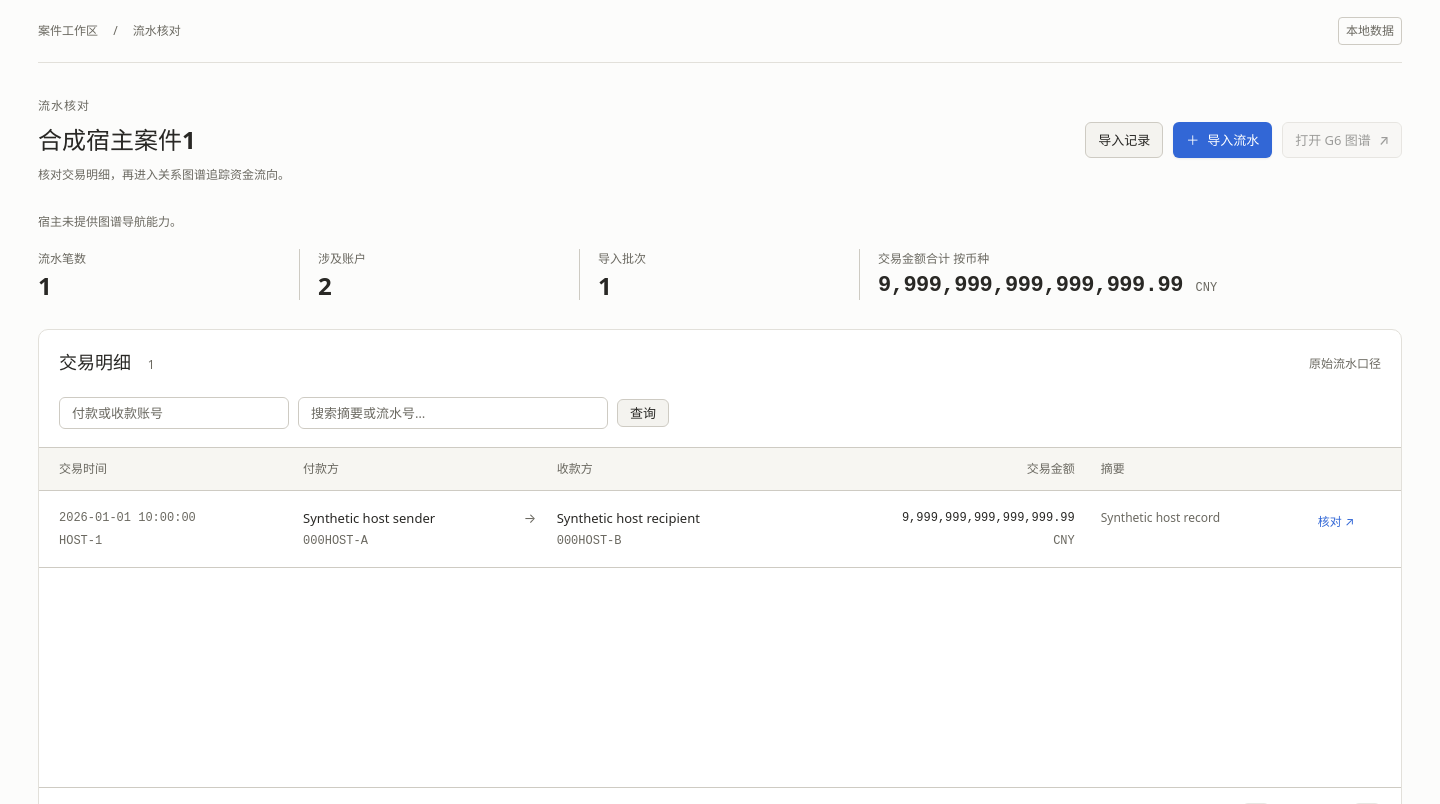
Test case: FundsPanel host isolation › disables missing host navigation and download capabilities with an explanation
Check: the button with aria-label "核对流水 HOST-1" is shown, box [1316,508,1356,536]
Check: the button "打开 G6 图谱 ↗" is disabled, box [1282,122,1402,158]
Click the button "导入记录".
click(1124, 140)  # box [1085,122,1163,158]
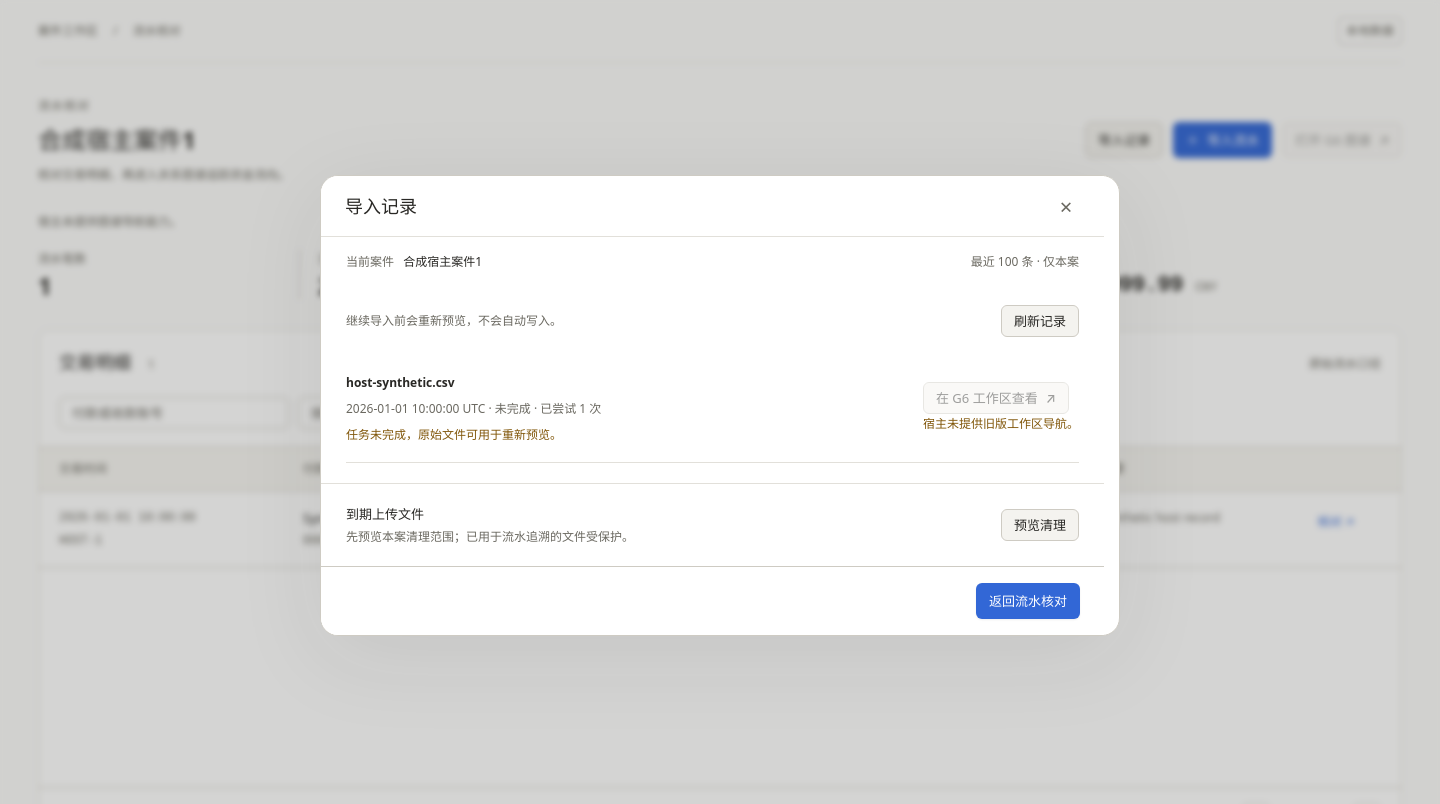
Check: the button "在 G6 工作区查看 ↗" is disabled, box [923,382,1069,414]
Check: the text "宿主未提供旧版工作区导航。" is shown, box [923,414,1079,434]
Click the button "返回流水核对".
click(1028, 600)  # box [976,582,1080,618]
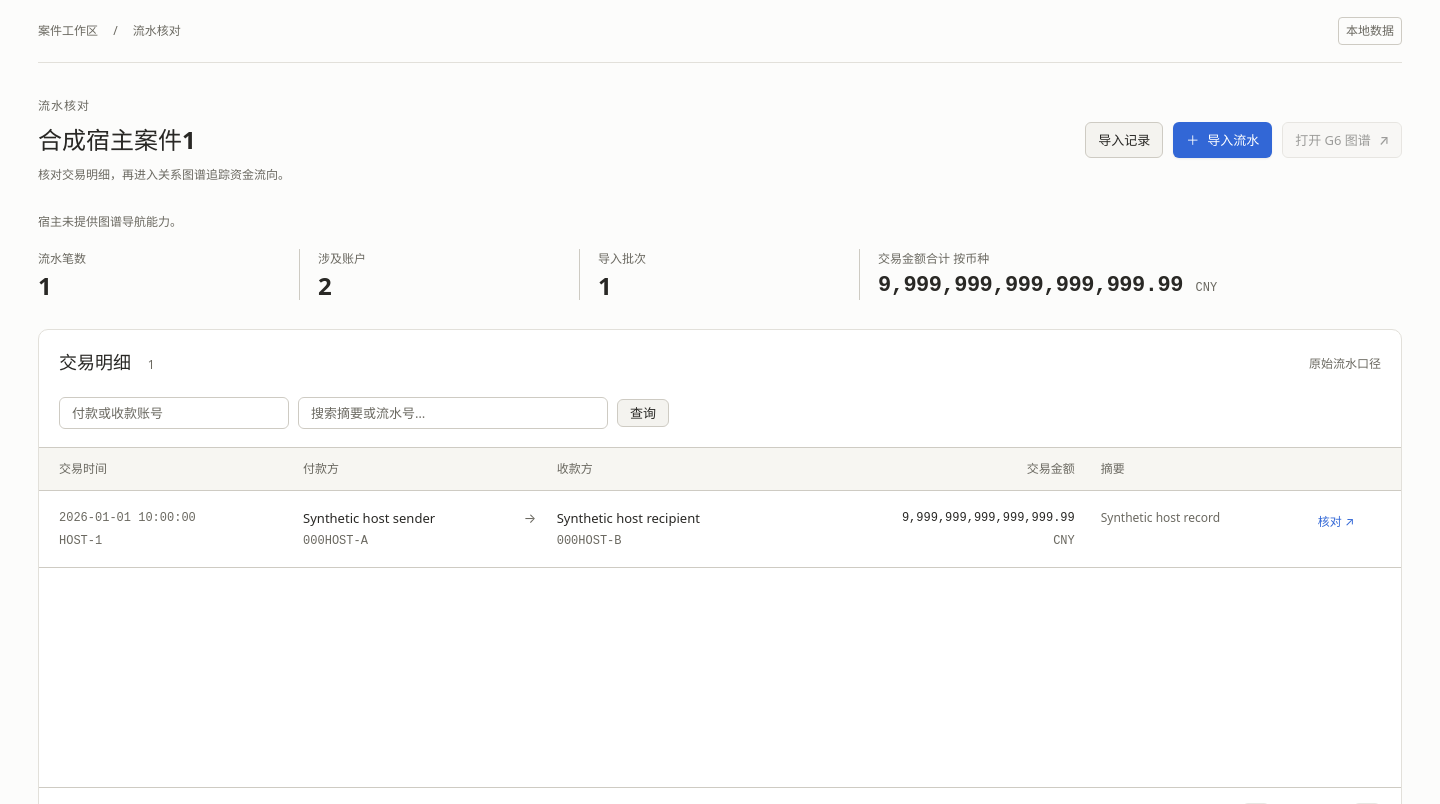
Click the button with aria-label "核对流水 HOST-1".
click(1336, 522)  # box [1316,508,1356,536]
(page scrolled)
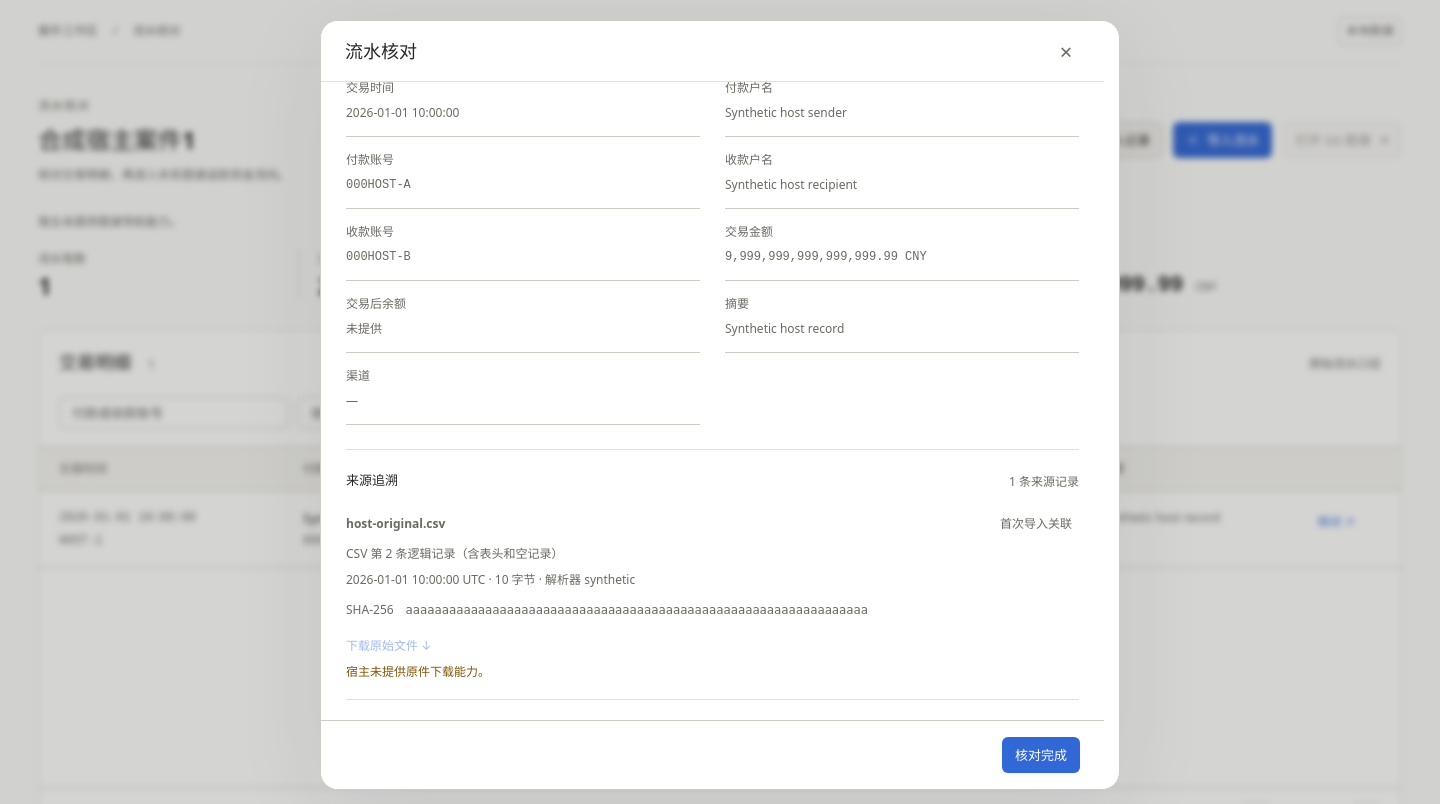
Check: the button "下载原始文件 ↓" is disabled, box [346,630,431,662]
Check: the text "宿主未提供原件下载能力。" is shown, box [346,663,490,680]
